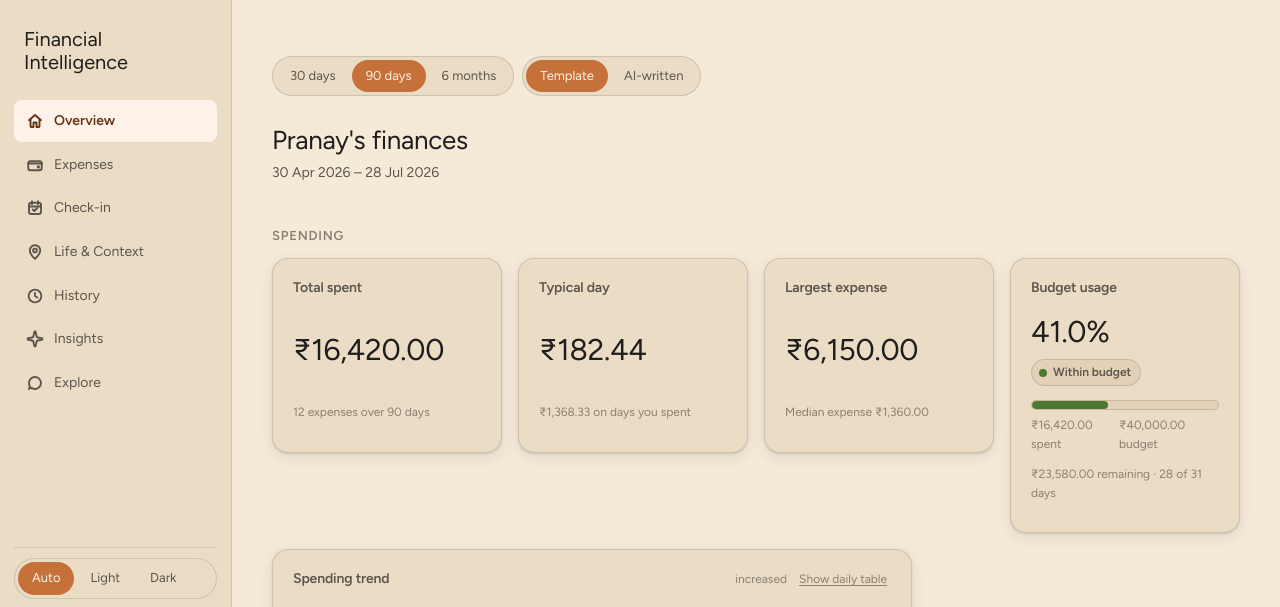
navigation › switches to the chat view
What coordinates should you click on to do the following:
click the button "Explore"
I would click on:
 (116, 383)
Its box is 14,362 -> 217,404.
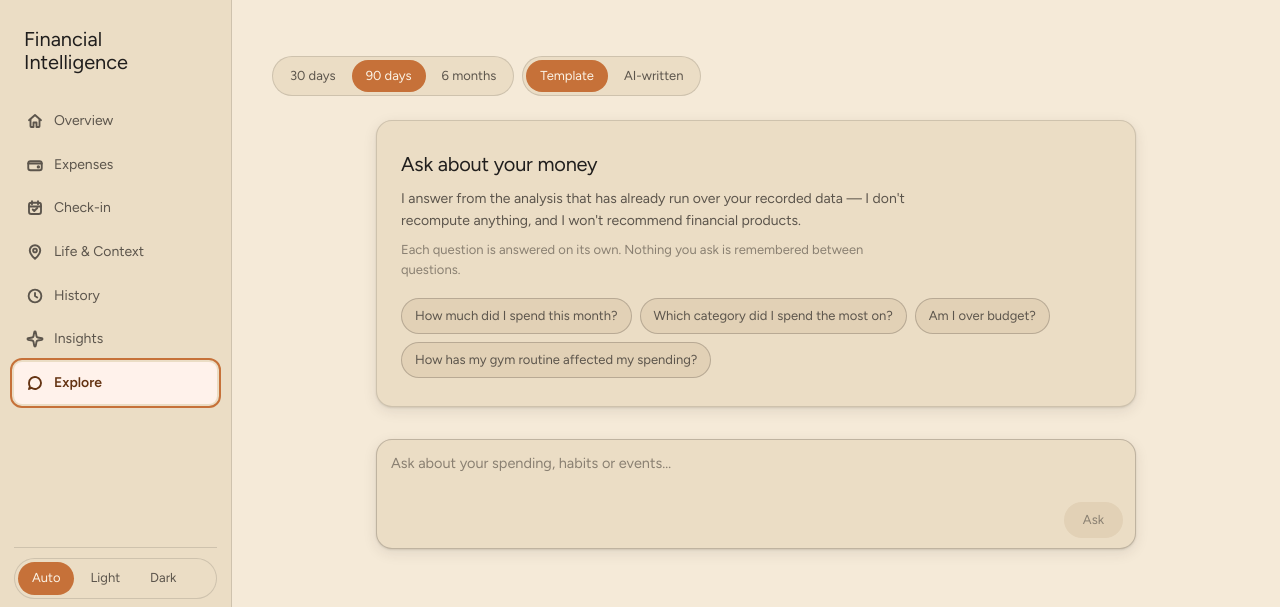
Check: the heading "Ask about your money" is shown, box 401,152 -> 597,176
Check: the heading "Total spent" is gone
